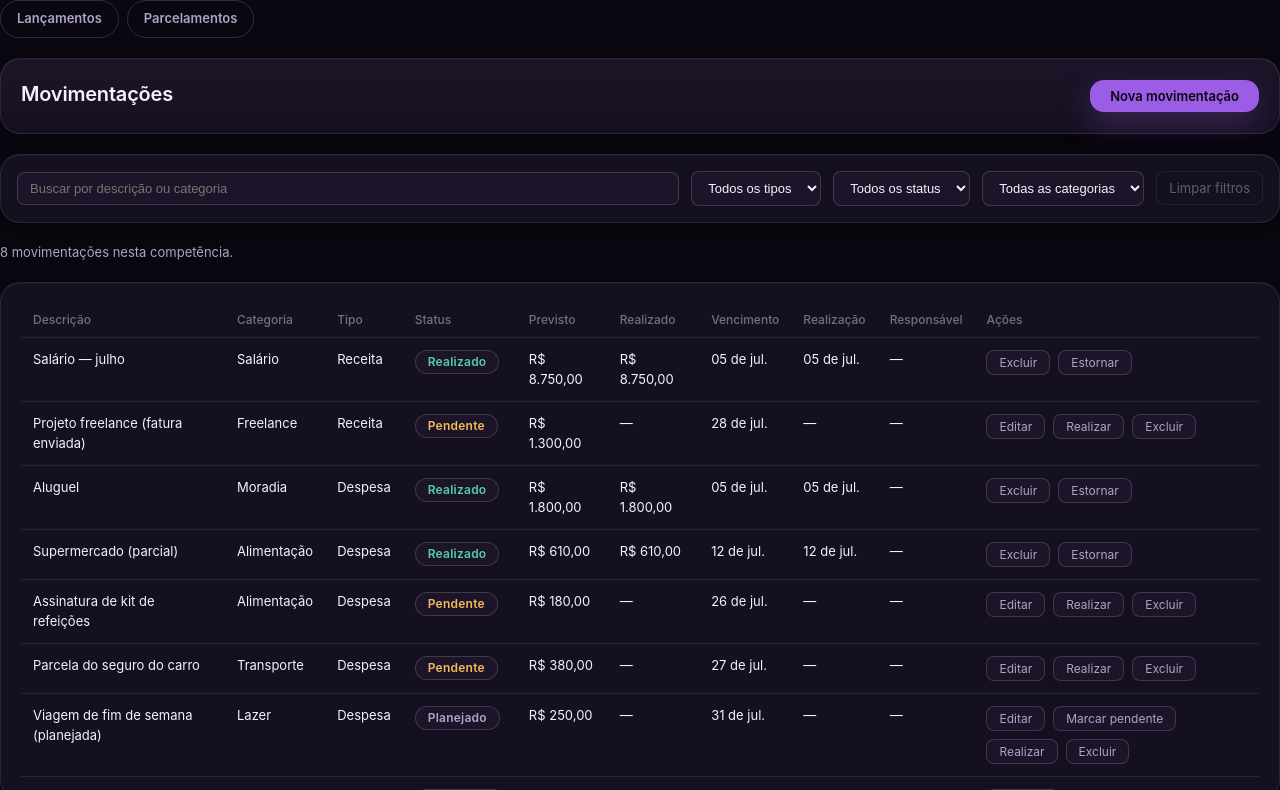
Scenario: FinancialEntriesPage — exclusão real de lançamentos (Bloco 20) › confirmar a exclusão de uma movimentação realizada remove da lista (ajuste pós-revisão do Bloco 20)
The image size is (1280, 790).
What coordinates should you click on to do the following:
click the button "Excluir" in the row of "Salário — julho"
I would click on:
 (1018, 362)
Its box is x1=986 y1=350 x2=1050 y2=375.
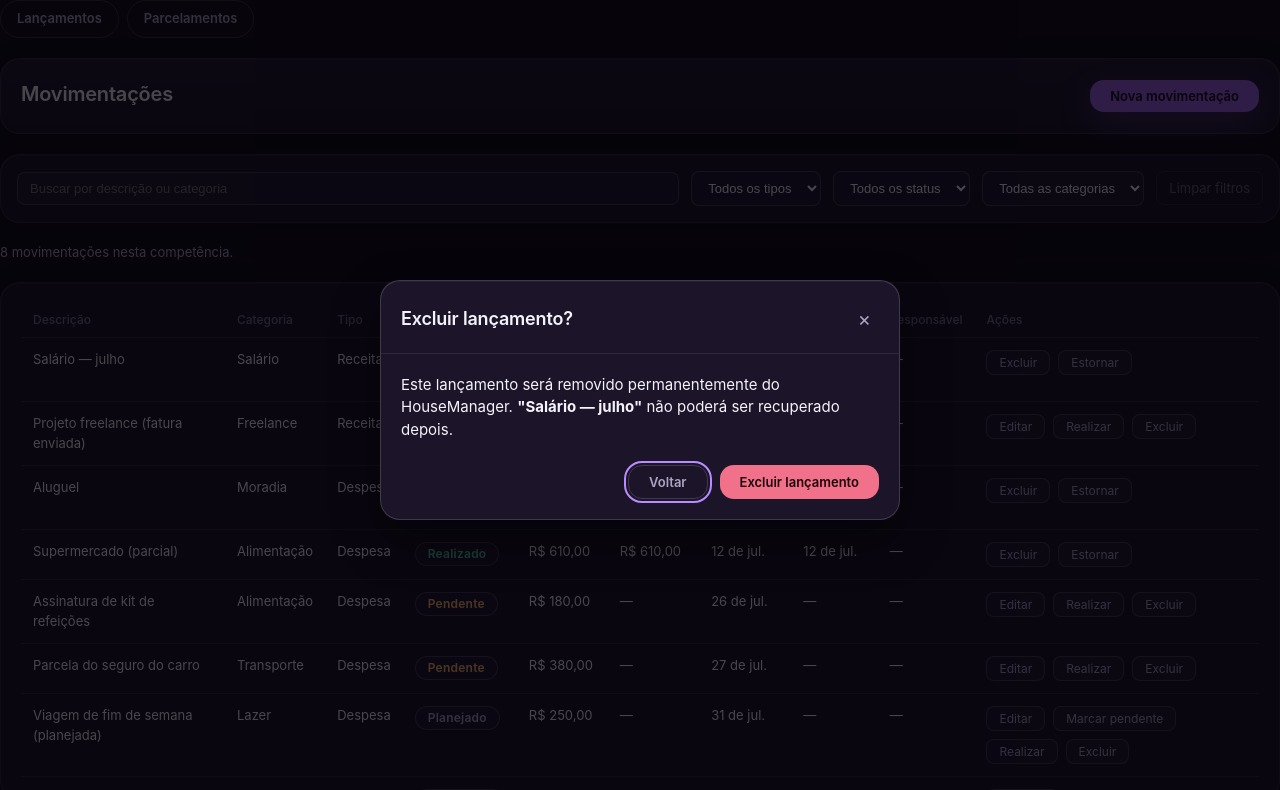
What coordinates should you click on to do the following:
click the button "Excluir lançamento"
I would click on:
 (799, 482)
Its box is x1=720 y1=465 x2=879 y2=499.
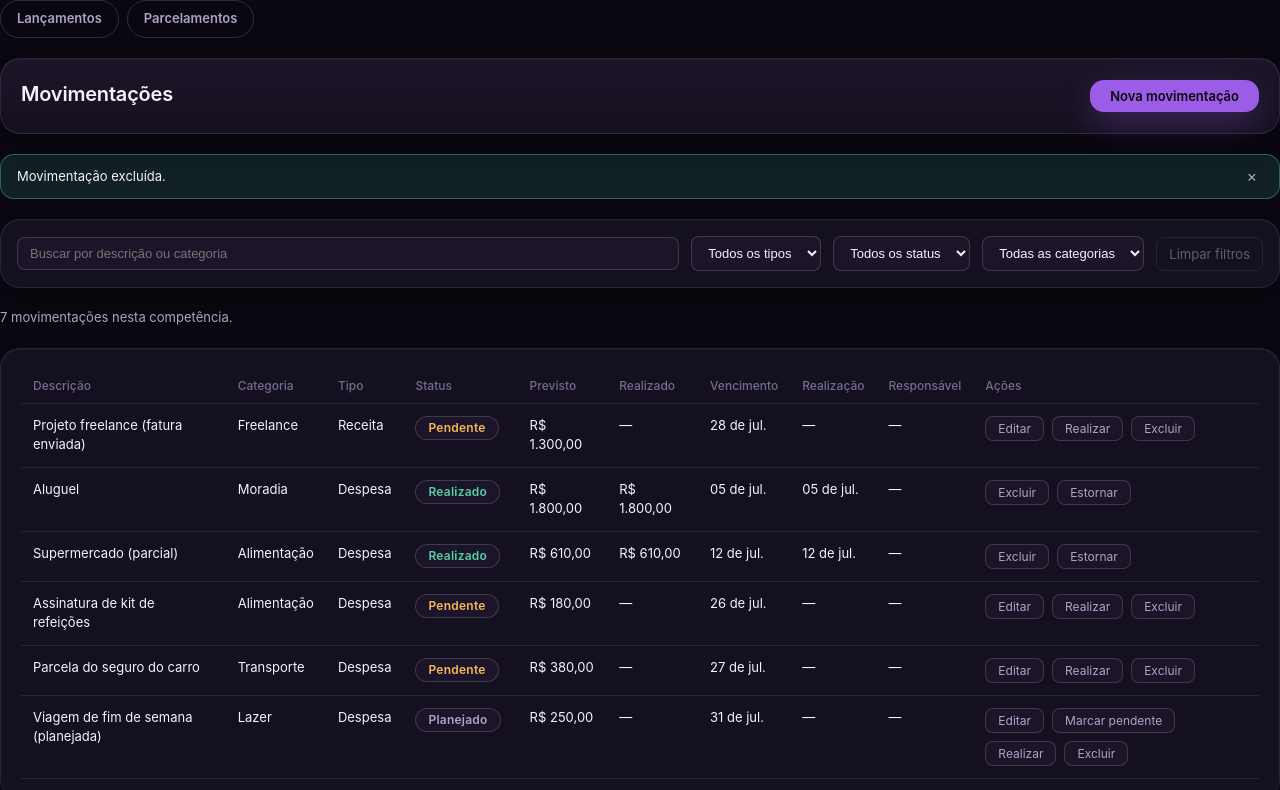
Check: the dialog is gone
Check: the text "Salário — julho" is gone
Check: the text "Movimentação excluída." is shown, box x1=17 y1=166 x2=166 y2=186
